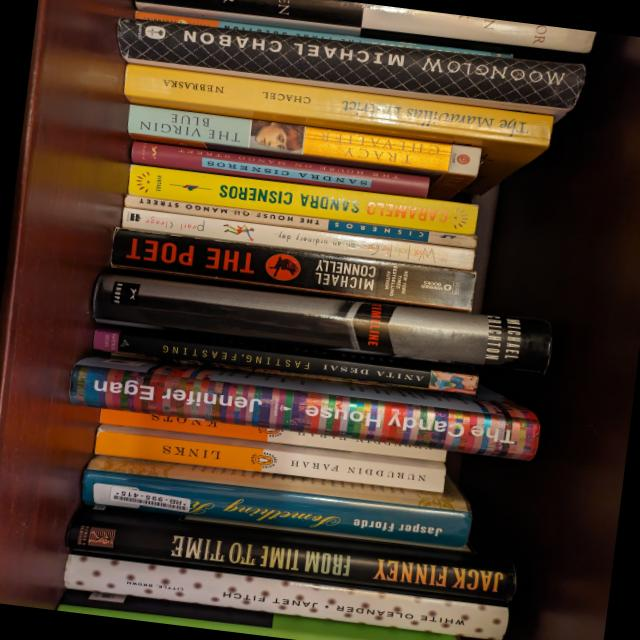book: (115, 63, 552, 202), (67, 345, 542, 461), (112, 16, 585, 121), (89, 272, 552, 373), (64, 502, 518, 604), (61, 552, 508, 640), (78, 453, 472, 548), (122, 104, 481, 203), (109, 227, 476, 312), (132, 0, 594, 65), (90, 320, 479, 397), (126, 163, 477, 236), (93, 422, 446, 493), (119, 206, 473, 270), (98, 406, 445, 465), (121, 193, 477, 250), (133, 10, 511, 62), (128, 141, 429, 199)
